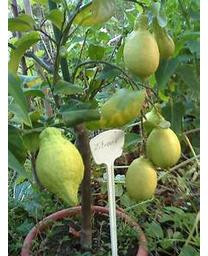lemon: (35, 128, 85, 205), (123, 13, 160, 80), (147, 125, 181, 169), (125, 158, 156, 202), (152, 15, 175, 64)
